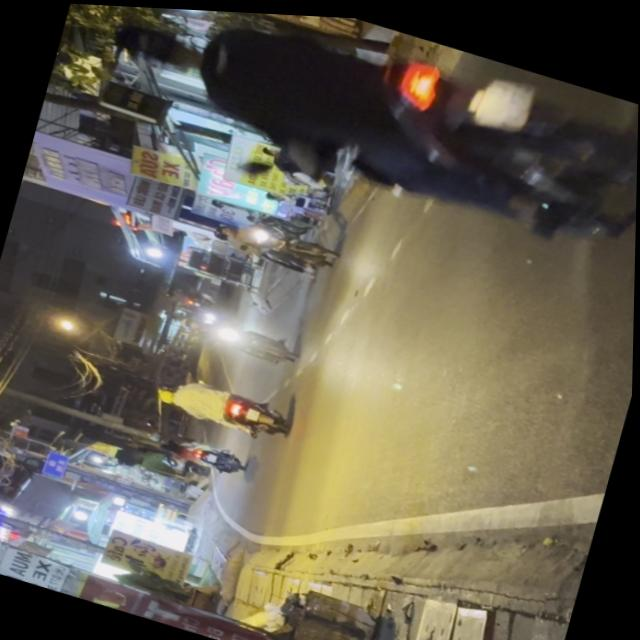helmet: (106, 10, 213, 80)
licenseplate: (89, 4, 640, 271)
nohelmet: (470, 64, 534, 129)
